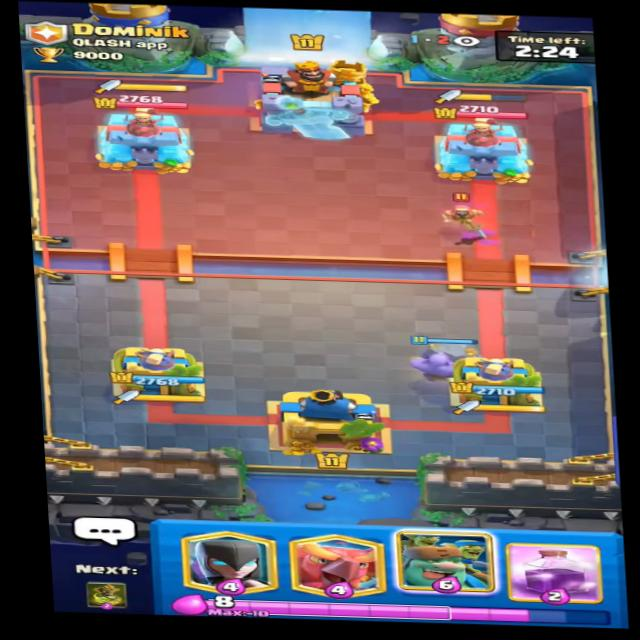wizard: (433, 186, 488, 232)
